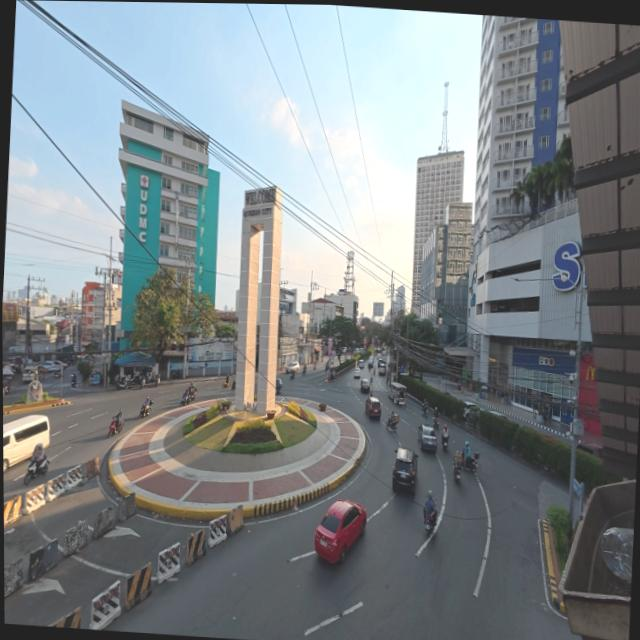Jeepneys: (389, 383, 406, 405)
car: (315, 500, 367, 563), (392, 447, 417, 493), (418, 425, 436, 452), (577, 443, 602, 458), (366, 397, 381, 420), (489, 410, 510, 421), (286, 362, 300, 373), (361, 378, 370, 392), (276, 378, 283, 393), (379, 363, 386, 375), (354, 367, 361, 378), (359, 359, 365, 368), (369, 356, 373, 362), (377, 353, 381, 359)
motorcycle: (25, 456, 49, 485), (465, 452, 479, 473), (108, 419, 124, 437), (424, 508, 435, 533), (139, 400, 153, 419), (453, 453, 462, 482), (386, 419, 397, 434), (180, 392, 191, 407), (116, 378, 129, 390), (441, 433, 449, 451), (149, 374, 160, 386), (189, 382, 198, 394), (188, 388, 195, 401), (422, 403, 428, 417), (222, 379, 230, 389), (433, 417, 439, 428), (71, 375, 76, 388), (290, 370, 296, 380), (55, 370, 62, 377), (369, 387, 374, 396), (231, 380, 236, 389), (302, 366, 307, 374), (370, 375, 373, 385)
vans: (3, 415, 49, 472), (22, 368, 38, 382)
